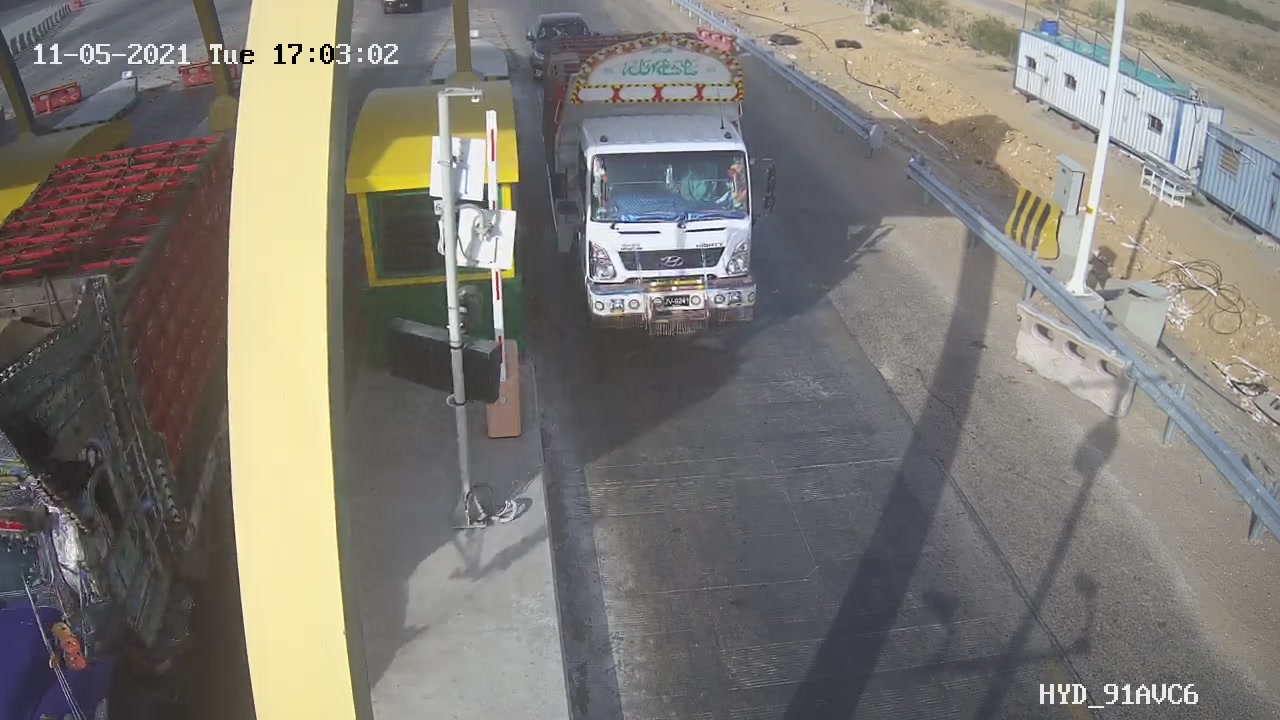F5: (525, 20, 795, 368)
